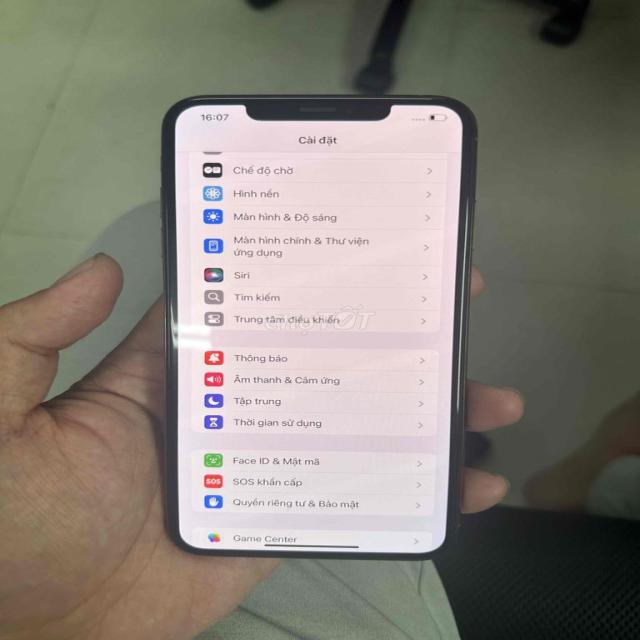gen_x_xs: (131, 91, 491, 570)
